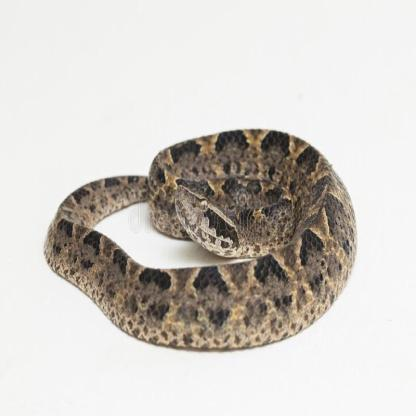snakes: (39, 115, 359, 357)
